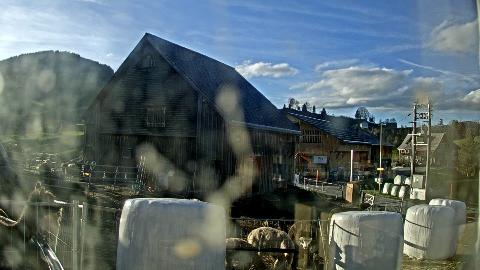car: (418, 160, 426, 166)
sheep: (0, 182, 62, 270), (247, 226, 295, 270), (0, 216, 42, 264), (289, 222, 321, 268), (224, 238, 268, 270), (329, 208, 350, 218), (40, 162, 50, 179), (68, 164, 78, 174), (360, 202, 370, 210), (44, 160, 52, 170), (61, 164, 68, 174)
